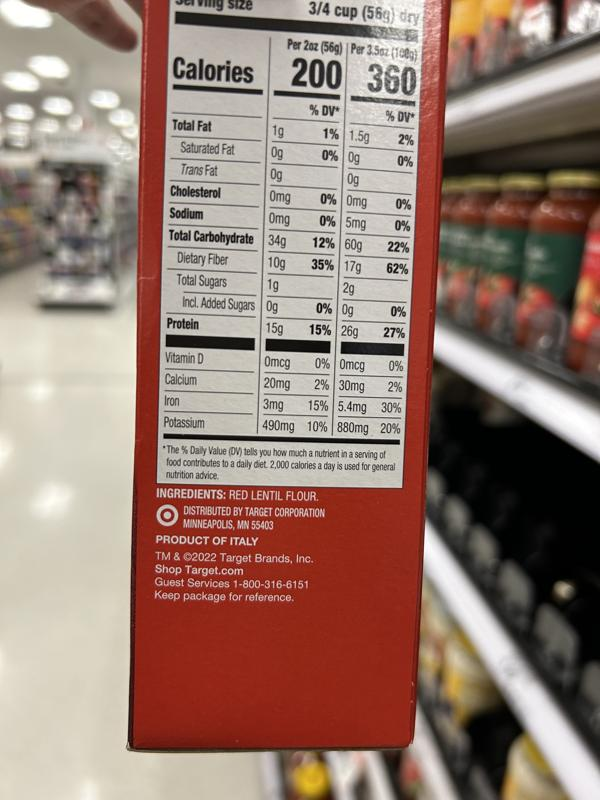ingredients: (155, 485, 319, 503)
